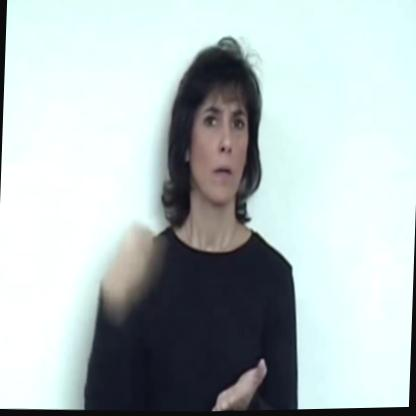Expensive: (104, 207, 278, 414)
